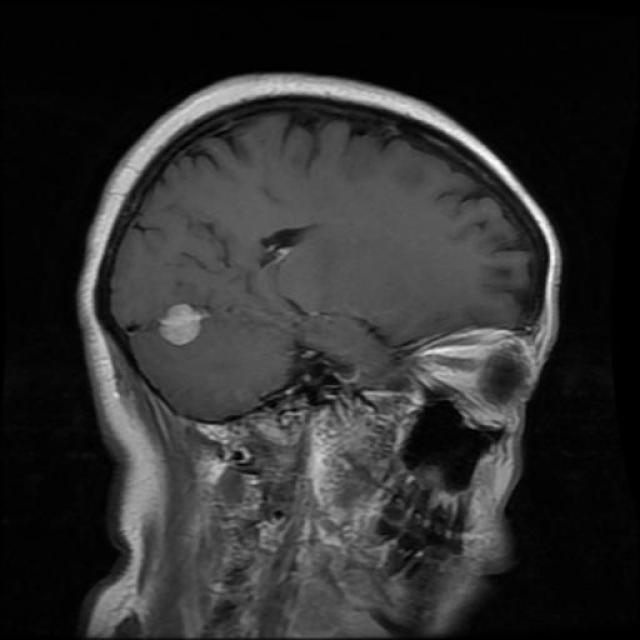meningioma: (160, 305, 201, 346)
